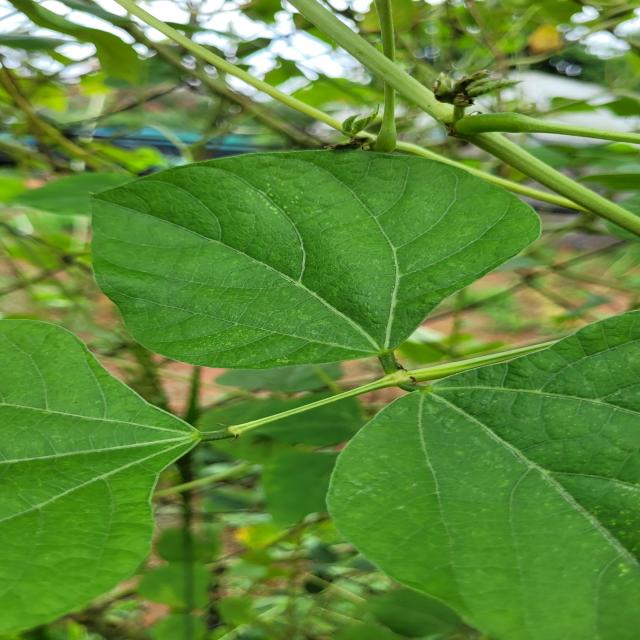Dolicos bean_healthy: (299, 292, 640, 639), (86, 148, 544, 366), (0, 303, 204, 640)
